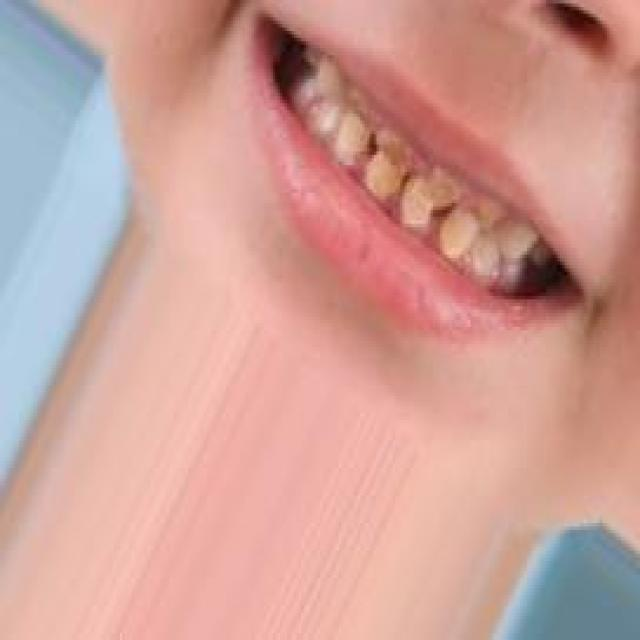caries: (462, 187, 504, 239), (376, 128, 414, 184), (350, 84, 384, 135), (422, 164, 452, 217)
